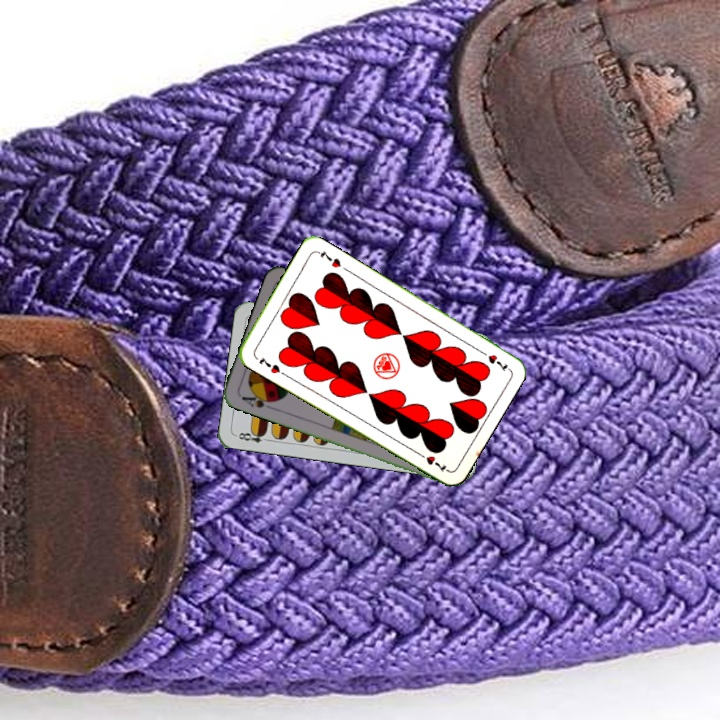E8: (232, 427, 273, 445)
H7: (475, 346, 510, 374), (255, 353, 283, 376)
SA: (237, 388, 278, 412)
